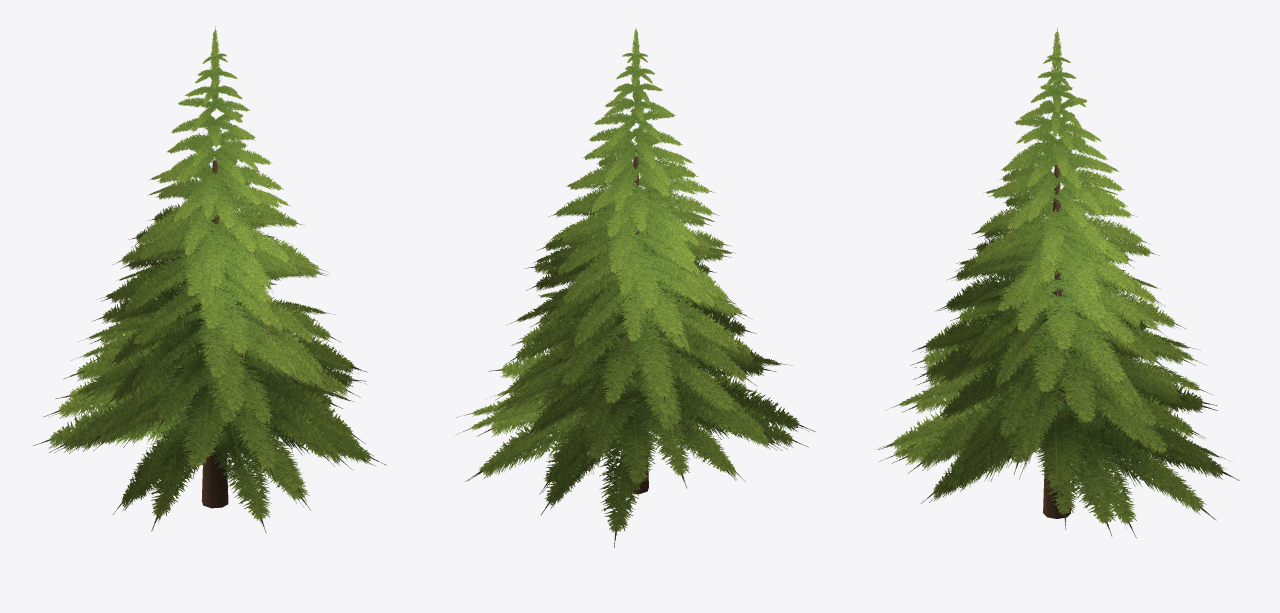
File: pine-c.glb
The picture shows the model from 3 angles, left to right: view 1: azimuth 30°, elevation 25°; view 2: azimuth 150°, elevation 25°; view 3: azimuth 270°, elevation 25°; orthographic projection. The views are drawn at different scales.
Parts seen in each view (by area): view 1: pine-c; view 2: pine-c; view 3: pine-c.
Part boxes in pixels (bbox=[...]): pine-c: bbox=[33, 26, 386, 533]; pine-c: bbox=[456, 28, 815, 547]; pine-c: bbox=[878, 27, 1239, 537].
Bounding box in the file's own units: 8.53 × 12.16 × 8.43.
Materials: 2 (1 with a texture image).
